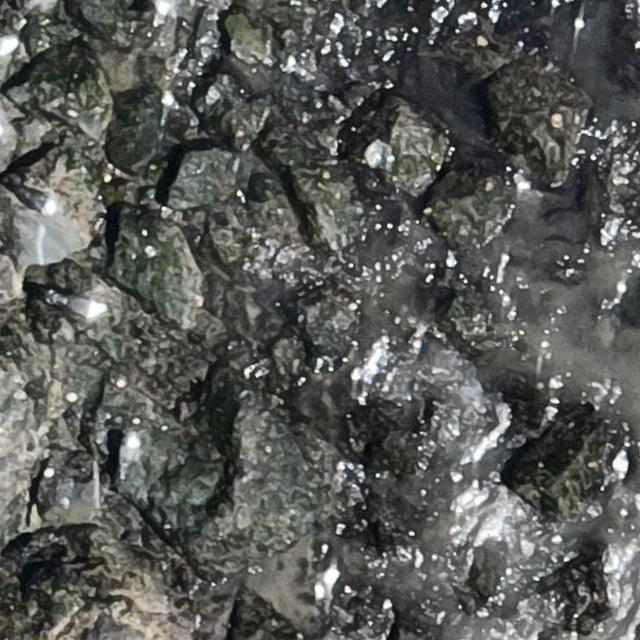umineko: (62, 297, 105, 317), (120, 434, 140, 472), (22, 190, 54, 212)
